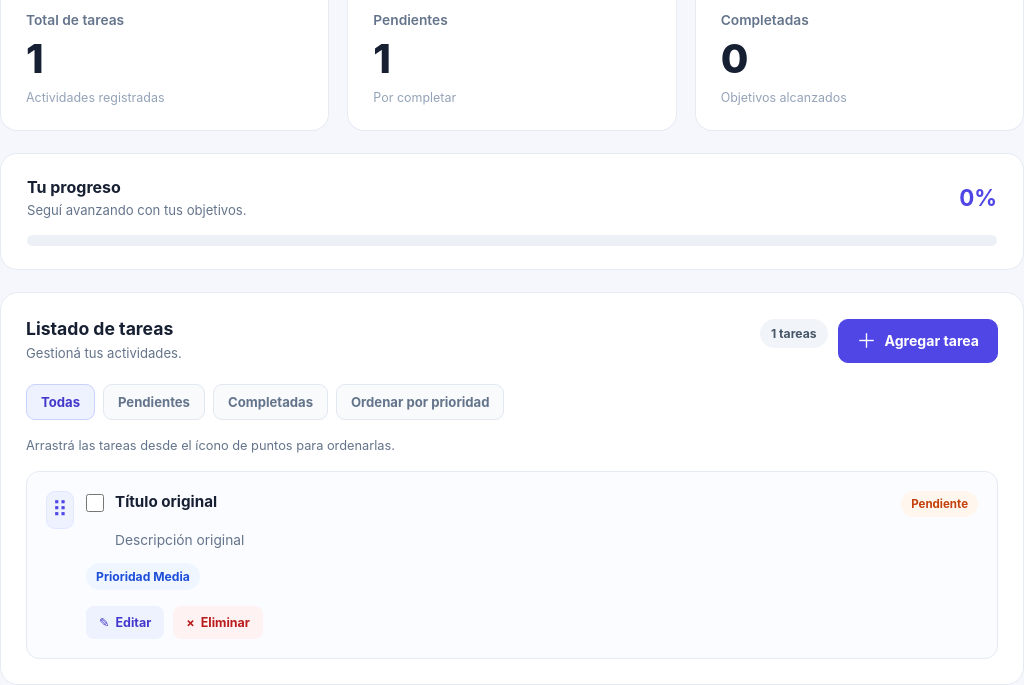
Test: TasksPage › permite editar el título y descripción de una tarea
(page scrolled)
Click the button "✎ Editar" at x=125, y=623, box [86,606,164,639]
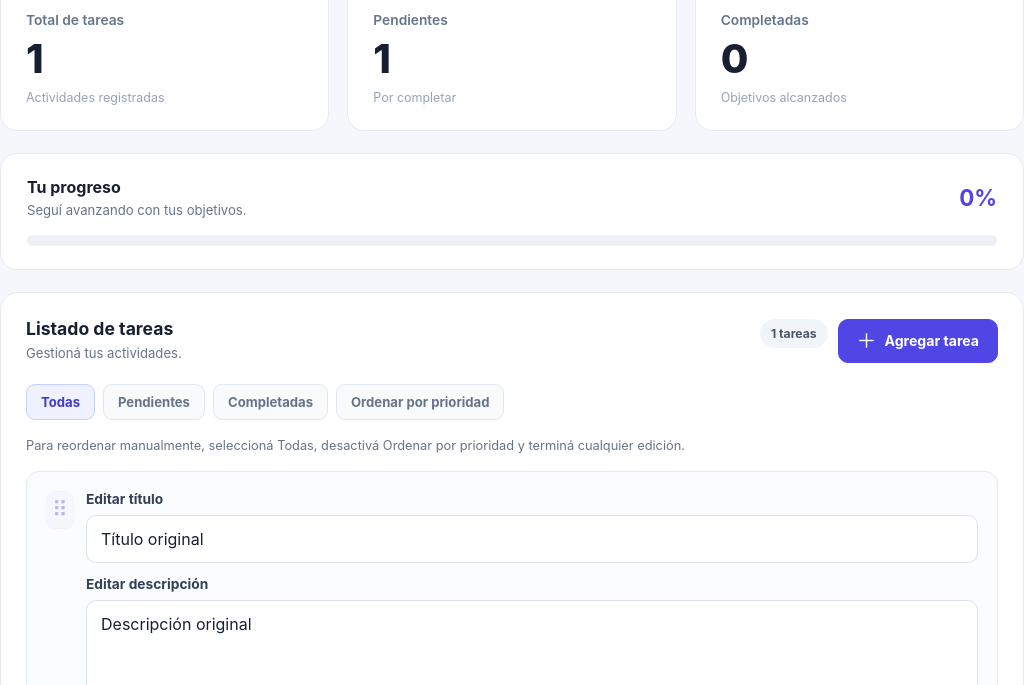
Replace the text in the field labelled "Editar título" with "Título actualizado" at x=532, y=539, box [86,515,978,563]
(page scrolled)
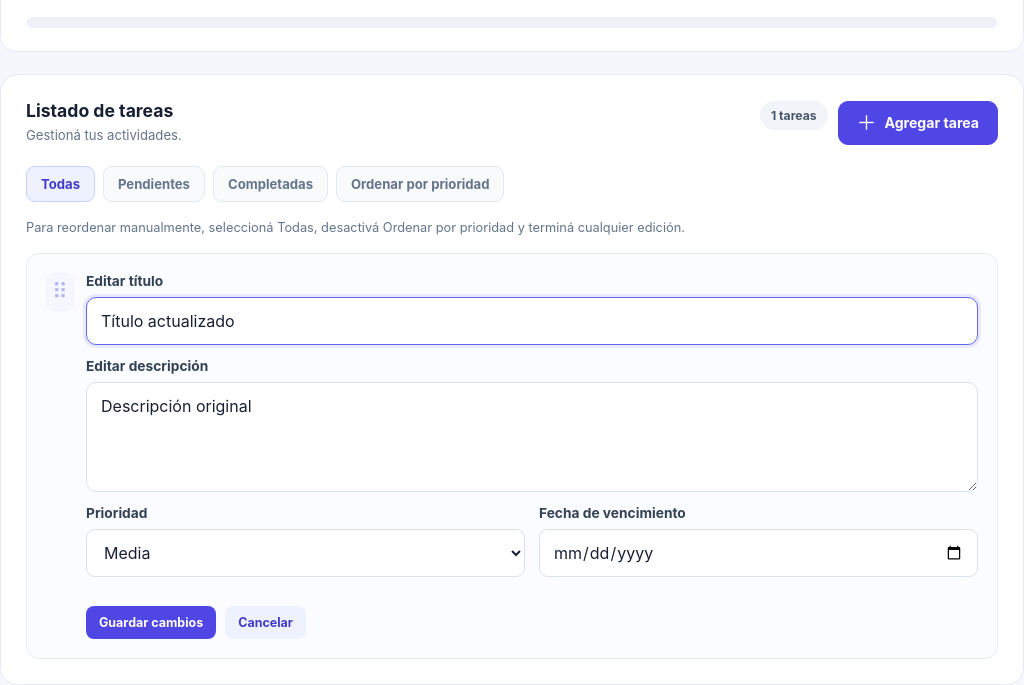
Replace the text in the text box labelled "Editar descripción" with "Nueva descripción" at x=532, y=437, box [86,382,978,492]
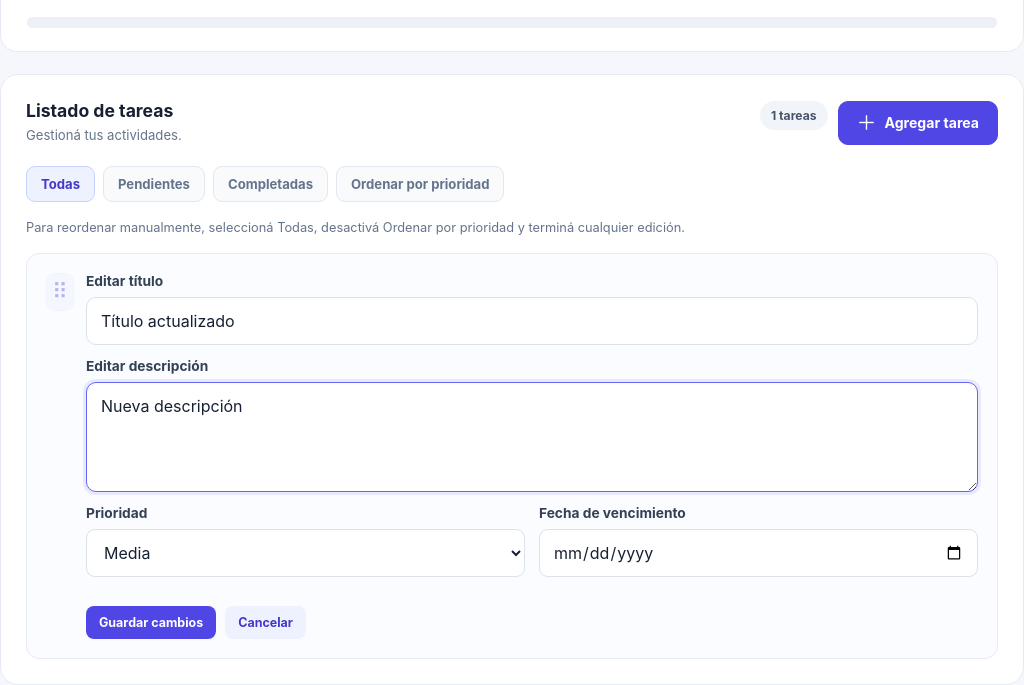
Click the button "Guardar cambios" at x=151, y=623, box [86,606,216,639]
(page scrolled)
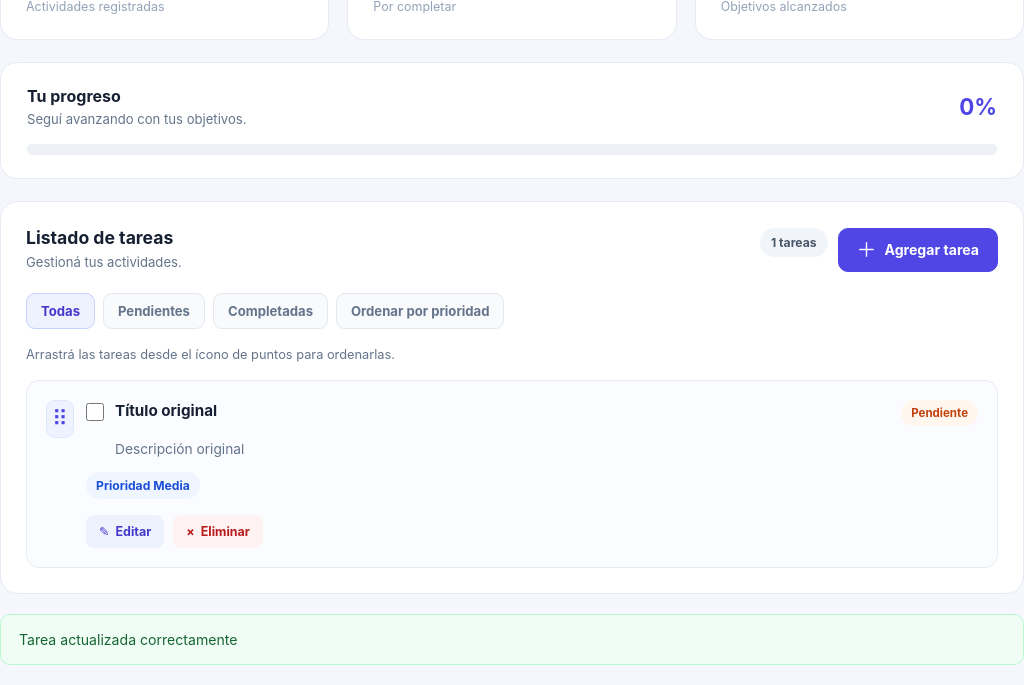
Check: the text "Tarea actualizada correctamente" is shown, box [0,614,1023,665]
